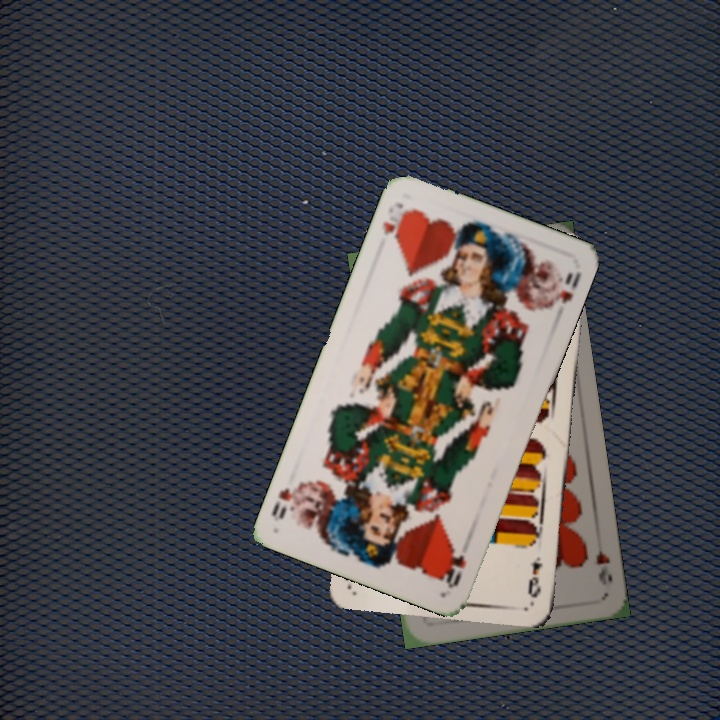E9: (524, 553, 545, 600)
H9: (592, 534, 615, 588)
HO: (379, 198, 411, 245), (442, 544, 469, 591)
